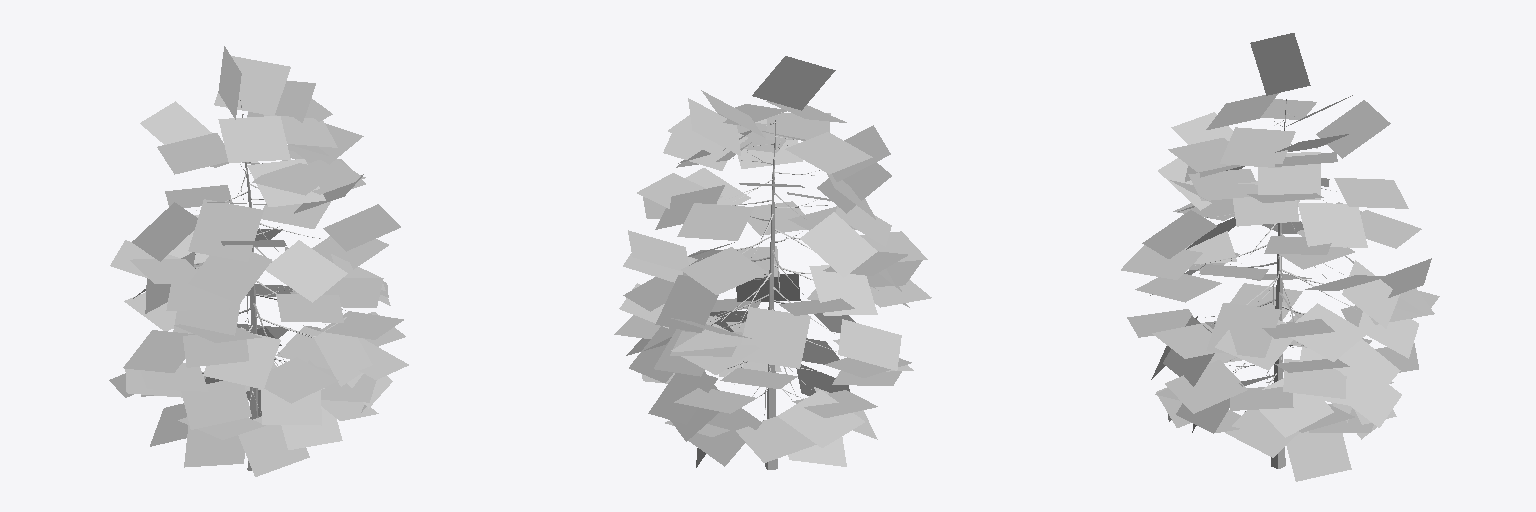
The model's file is treetest2test.obj.
The picture shows the model from 3 angles: view 1: azimuth 30°, elevation 25°; view 2: azimuth 150°, elevation 25°; view 3: azimuth 270°, elevation 25°; orthographic projection.
Parts seen in each view (by area): view 1: leaves, tree; view 2: leaves, tree; view 3: leaves, tree.
Part boxes in pixels (bbox=[...]): leaves: bbox=[109, 46, 408, 476]; tree: bbox=[194, 100, 329, 470]; leaves: bbox=[614, 56, 931, 467]; tree: bbox=[695, 112, 836, 469]; leaves: bbox=[1121, 33, 1439, 481]; tree: bbox=[1195, 99, 1356, 468].
Size of the model in its own units: 3.59 by 5.52 by 3.79.